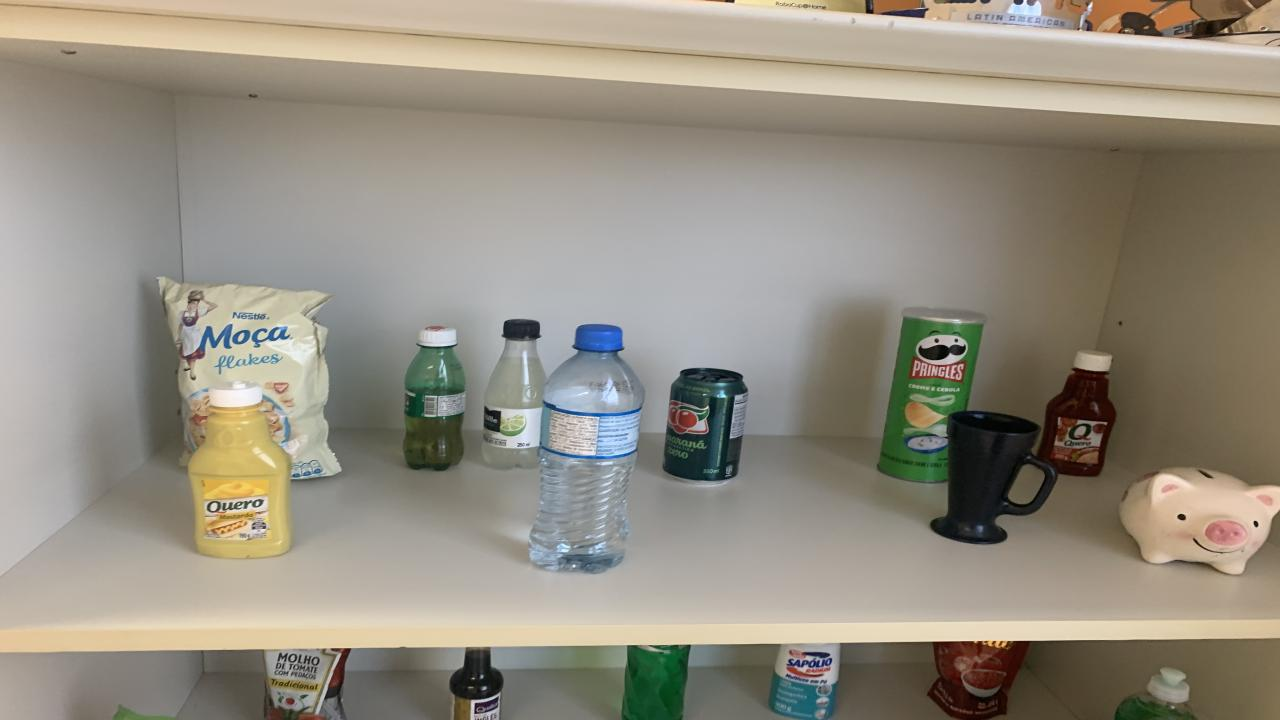Cleaner-Cleanup_Items: (768, 643, 840, 720)
Detergent-Cleanup_Items: (622, 645, 690, 720), (1115, 668, 1195, 720)
English_Sauce-Pantry_Items: (450, 647, 502, 720)
Flakes-Snacks: (158, 278, 340, 478)
Guarana-Drinks: (402, 326, 465, 471)
Guarana_Can-Drinks: (662, 368, 748, 482)
Ketchup-Pantry_Items: (1038, 351, 1115, 476)
Mustard-Pantry_Items: (188, 381, 290, 559)
Pig_Safe-Miscellaneous: (1120, 467, 1280, 574)
Pringles-Snacks: (878, 308, 985, 482)
Soda-Drinks: (482, 319, 545, 469)
Tomato_Sauce-Pantry_Items: (928, 641, 1030, 720), (265, 649, 350, 720)
Water_Bottle-Drinks: (530, 324, 645, 572)
